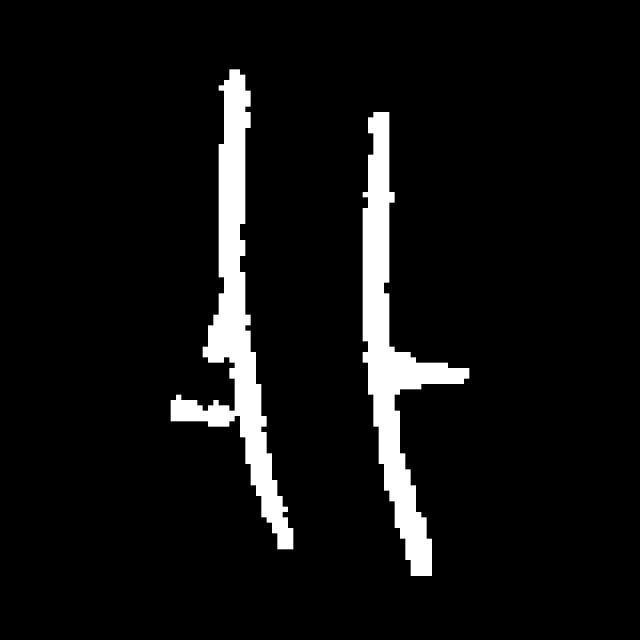capacitor: (205, 50, 437, 587)
